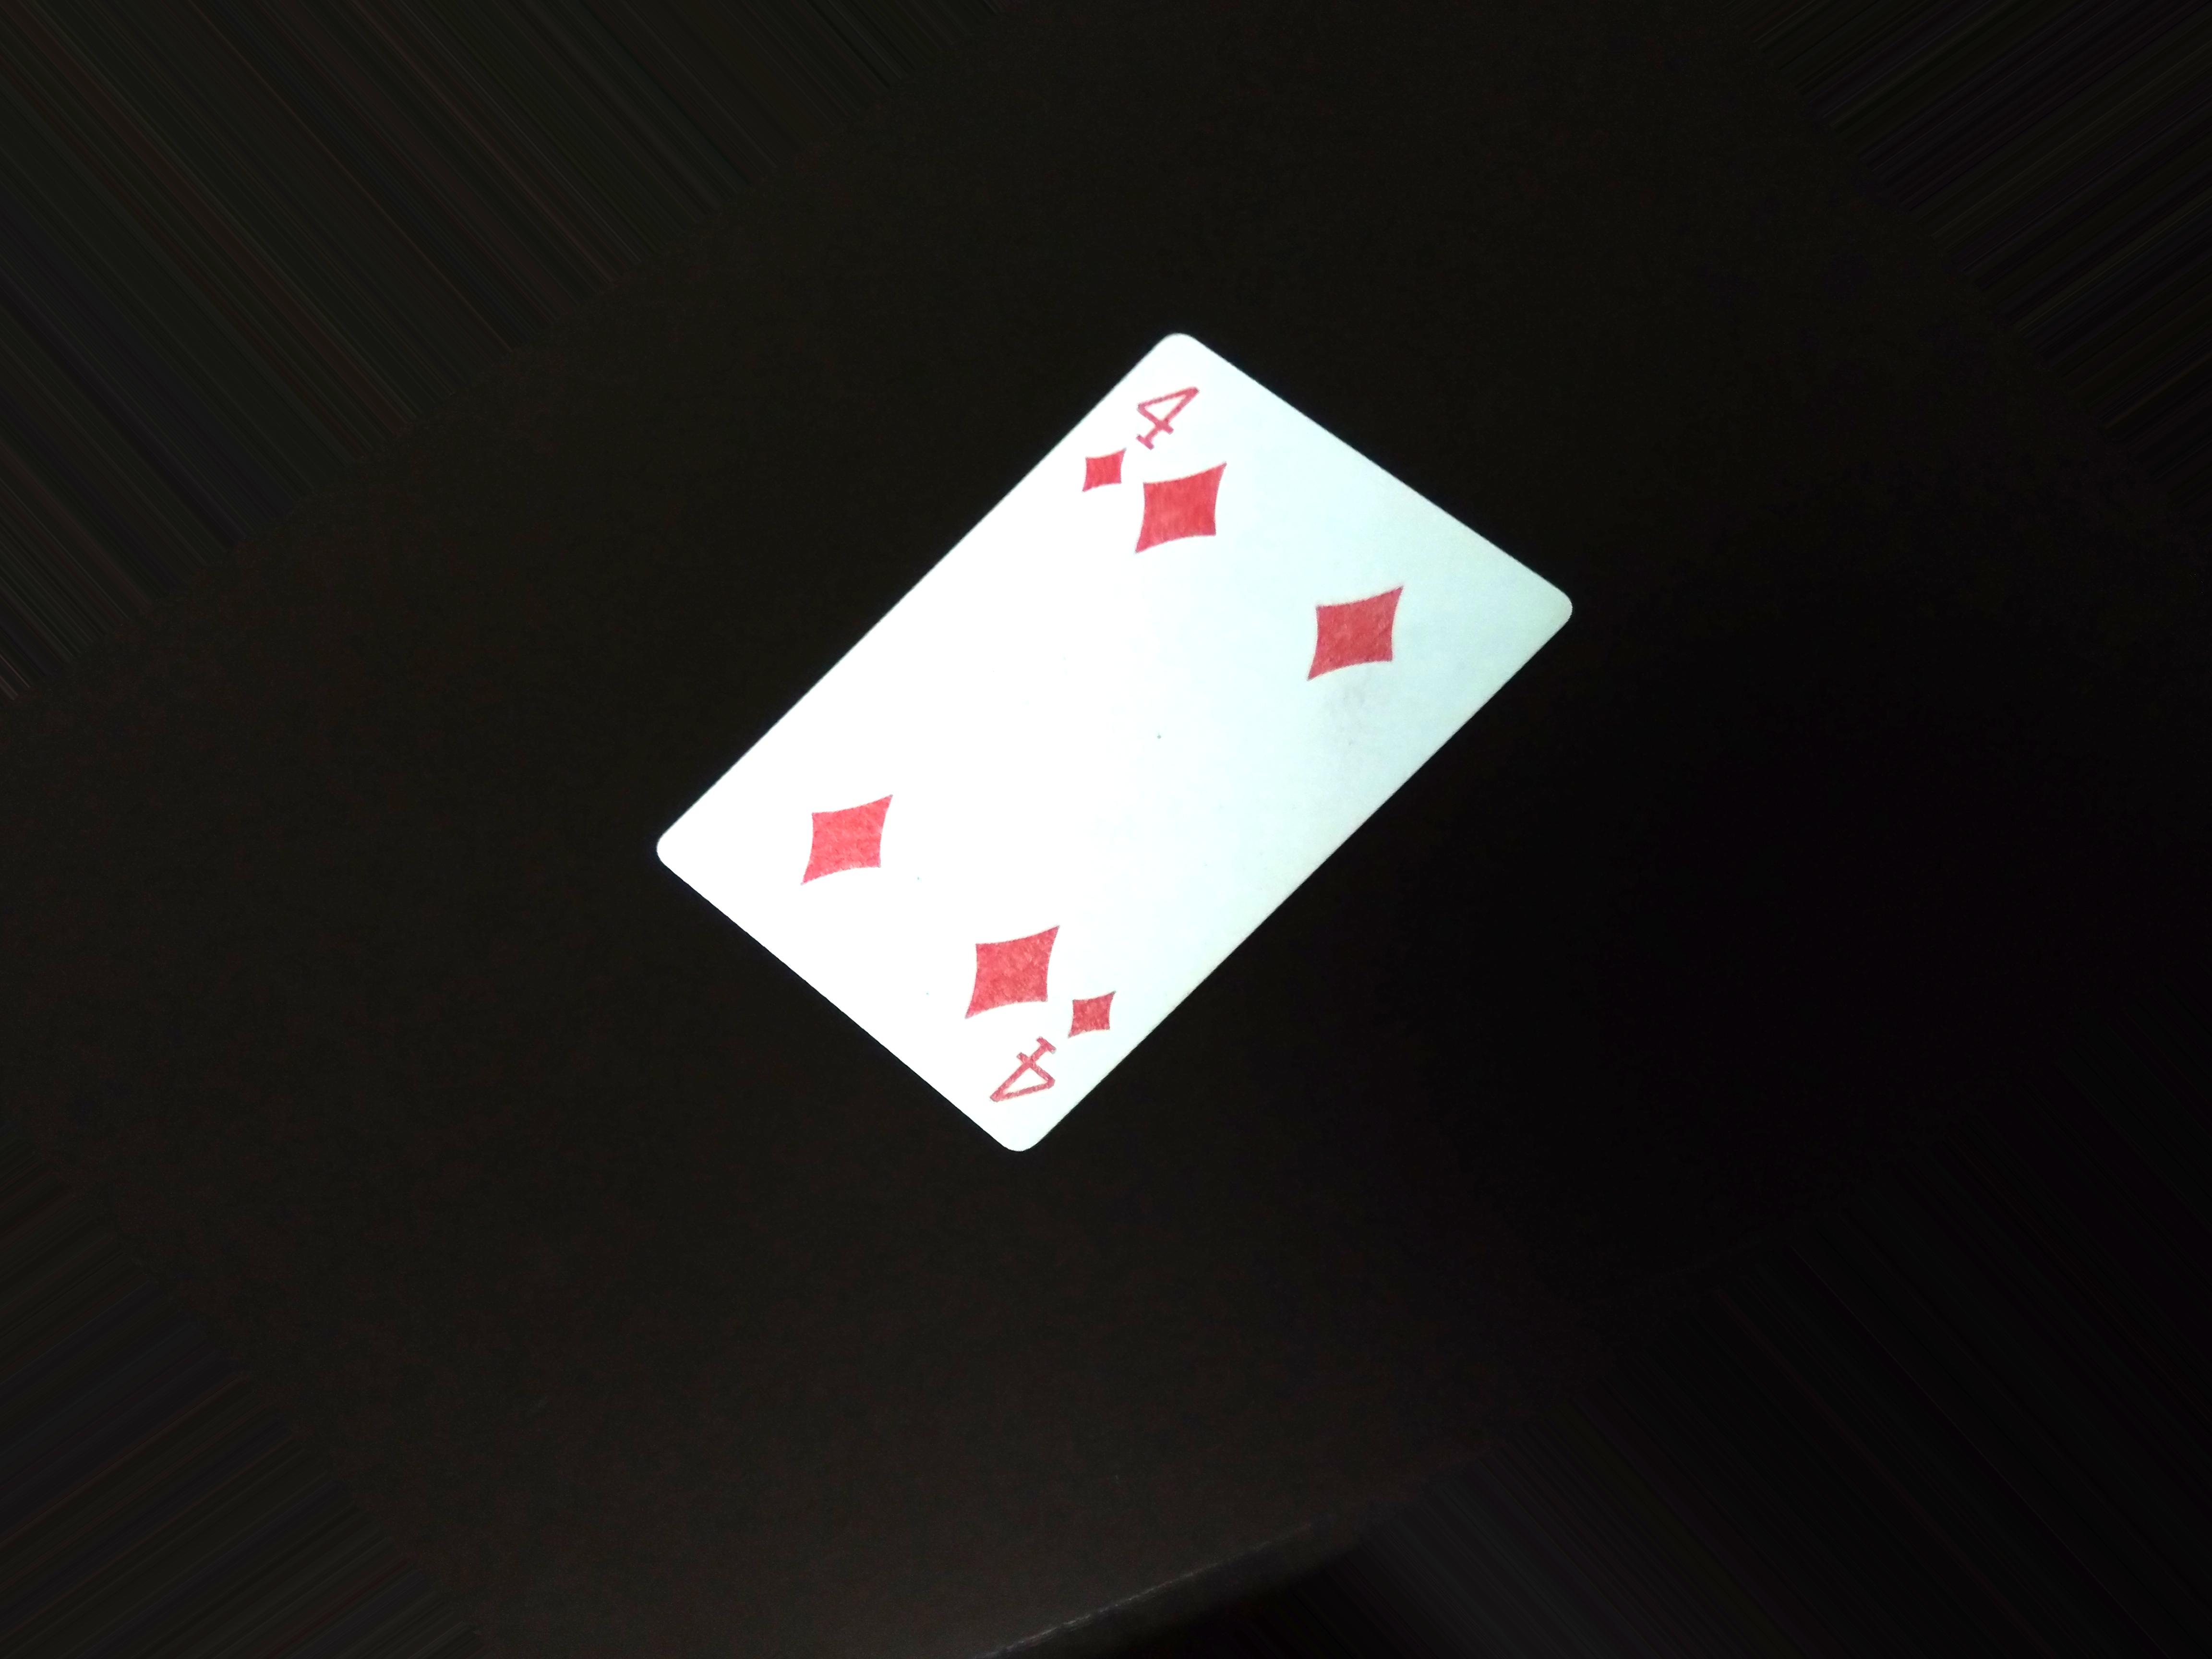4D: (1049, 350, 1209, 504)
